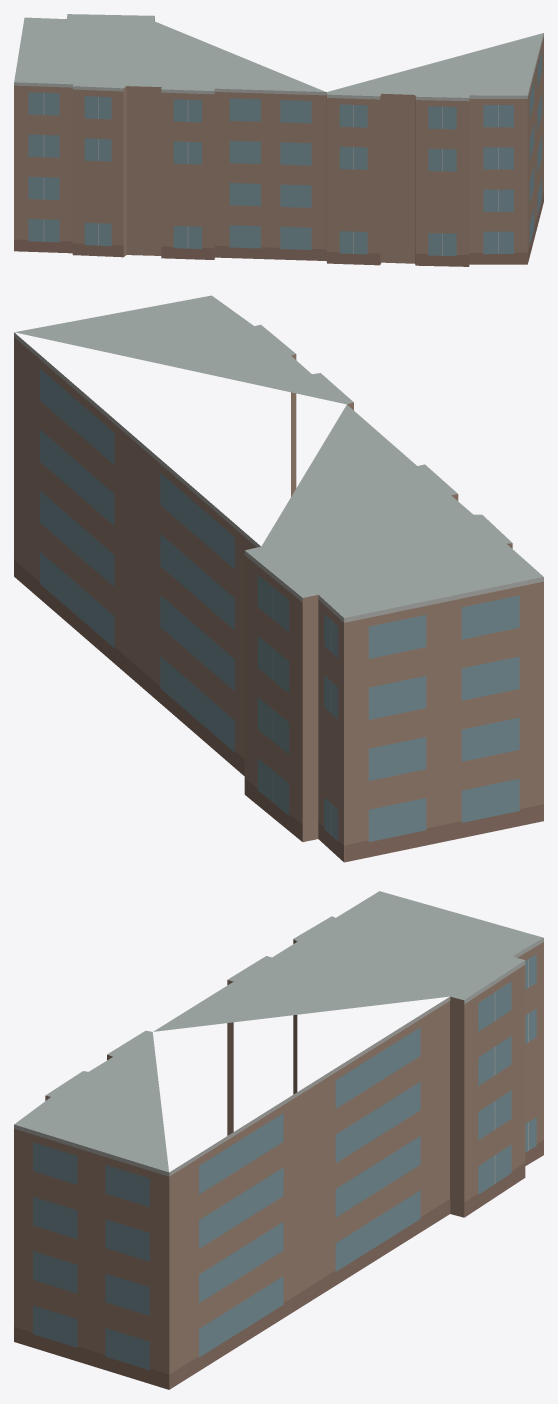
The model's file is survey-upis-32768423.glb.
3 renders of one model, top to bottom at view 1: azimuth 30°, elevation 25°; view 2: azimuth 150°, elevation 25°; view 3: azimuth 270°, elevation 25°, orthographic. The views are drawn at different scales.
Visible parts, largest first — view 1: survey-upis-32768423.tmp; view 2: survey-upis-32768423.tmp; view 3: survey-upis-32768423.tmp.
Boxes of the visible parts, x1,y1,x2,y2 form: survey-upis-32768423.tmp: [14, 14, 543, 266]; survey-upis-32768423.tmp: [14, 295, 543, 862]; survey-upis-32768423.tmp: [14, 891, 543, 1389].
Bounding box in the file's own units: 35.27 × 12.7 × 28.06.
